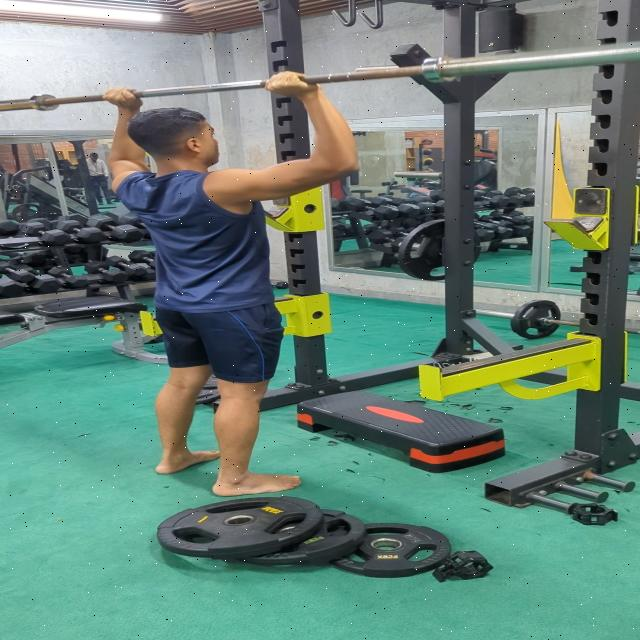Normal_OverheadPress: (89, 73, 385, 502)
